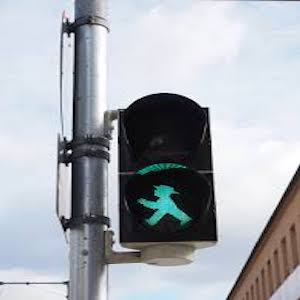green: (140, 179, 189, 226)
